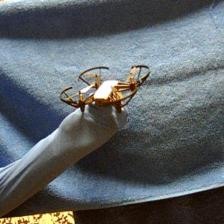drone: (59, 65, 150, 115)
